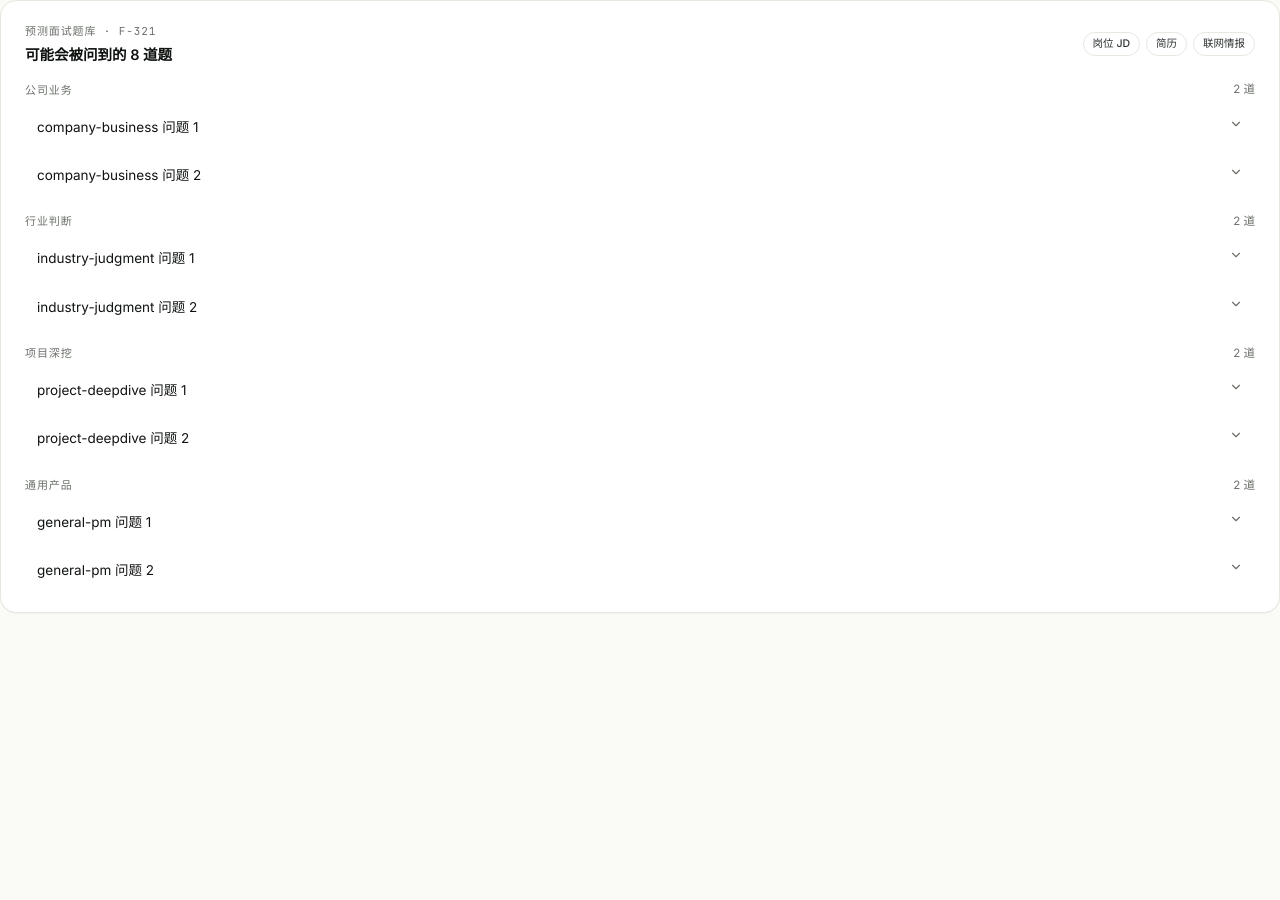
Test: PredictedQuestionList › hides why_likely + related_evidence by default and shows on click
Click the button "company-business 问题 1".
click(118, 126)  # box [37, 116, 1243, 137]
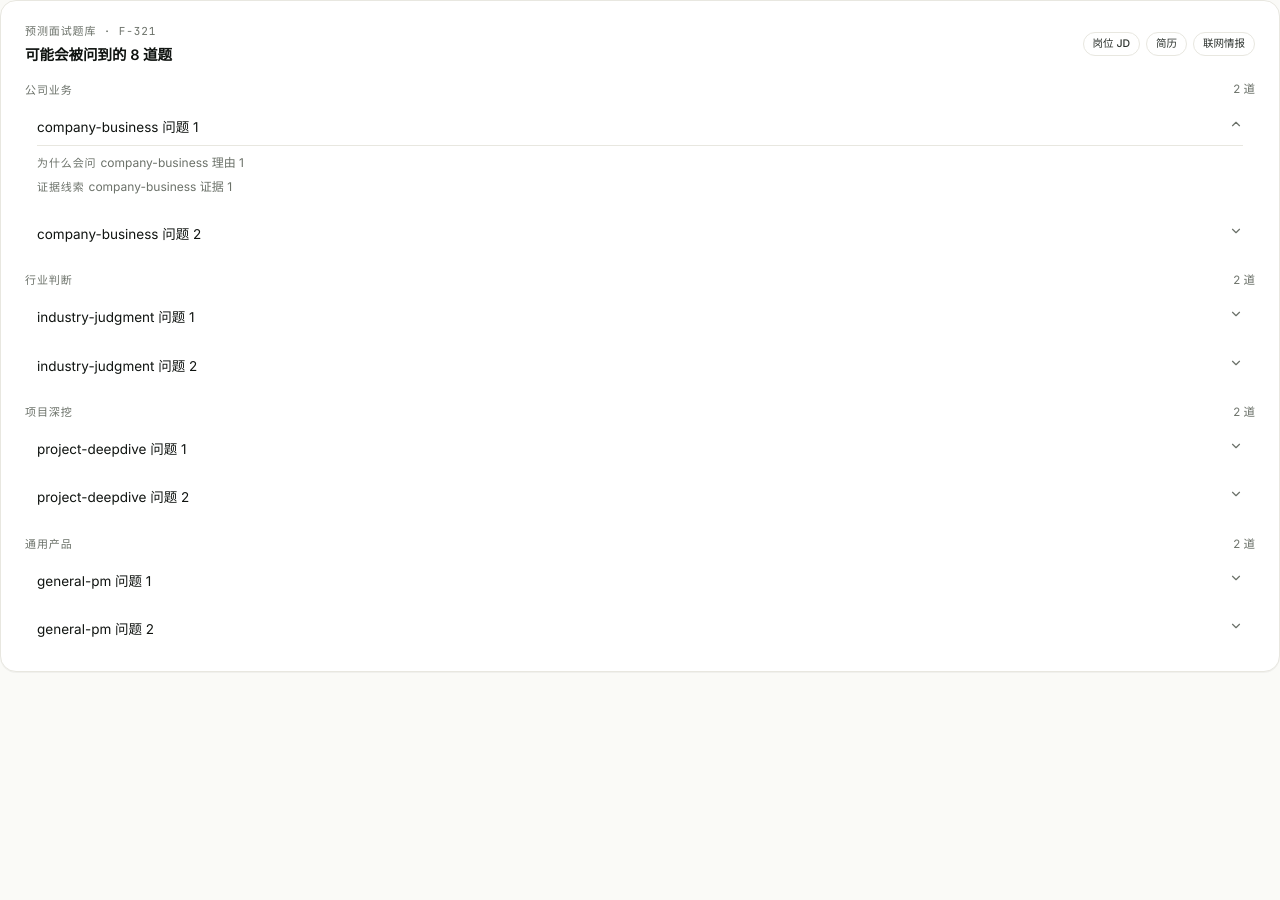
Now the number of elements with test id "predicted-question-detail" is 1, box [37, 145, 1243, 196]
